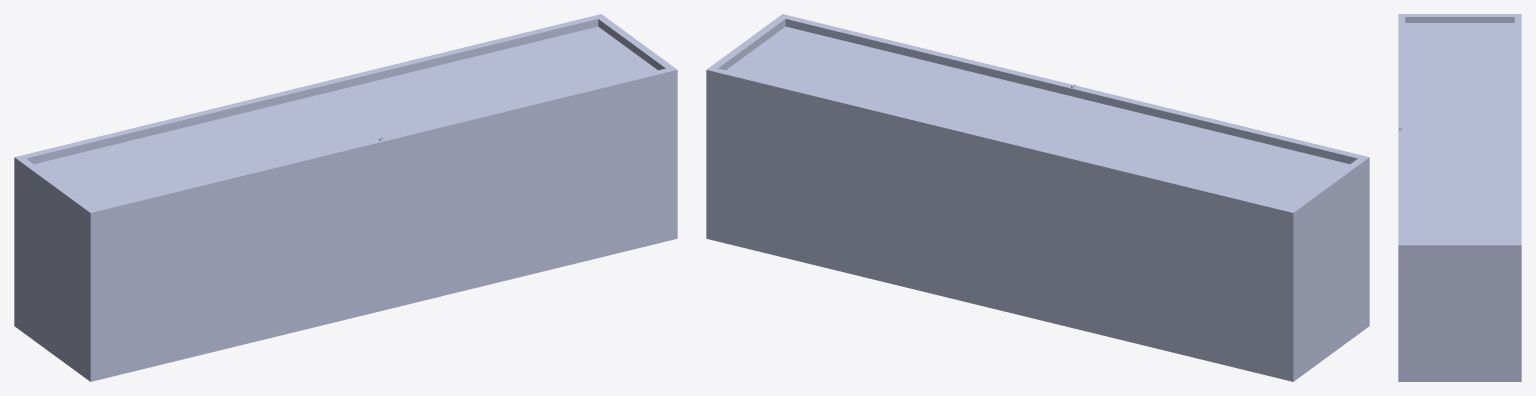
Rendered from Overhead cabinet - 80in._y.fbx.
The picture shows the model from 3 angles, left to right: view 1: azimuth 30°, elevation 25°; view 2: azimuth 150°, elevation 25°; view 3: azimuth 270°, elevation 25°; orthographic projection. The views are drawn at different scales.
Visible parts, largest first — view 1: Body_1; view 2: Body_1; view 3: Body_1.
Boxes of the visible parts, x1=… form: Body_1: x1=14, y1=14, x2=677, y2=381; Body_1: x1=706, y1=14, x2=1369, y2=381; Body_1: x1=1398, y1=14, x2=1521, y2=381.
Size of the model in its own units: 2.03 by 0.4572 by 0.5639.
